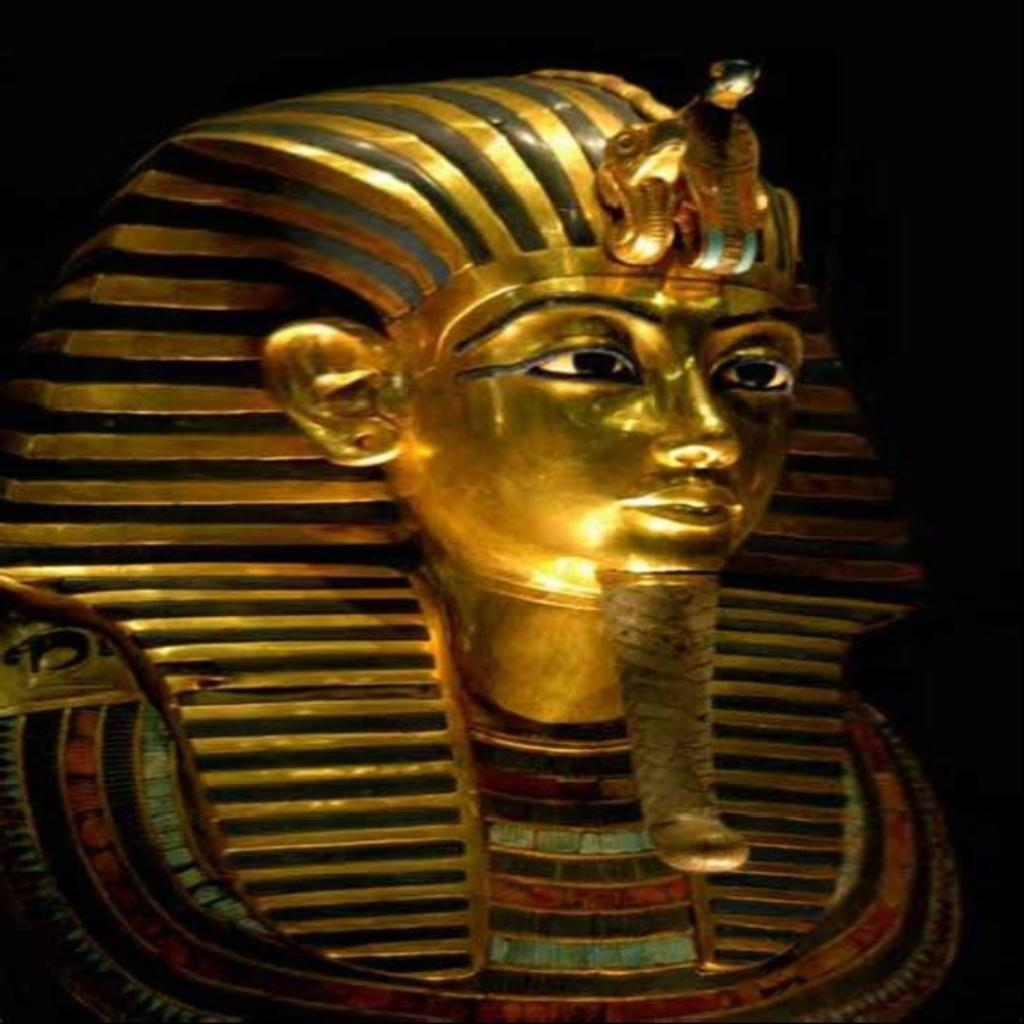Mask of Tutankhamun: (0, 50, 966, 1021)
